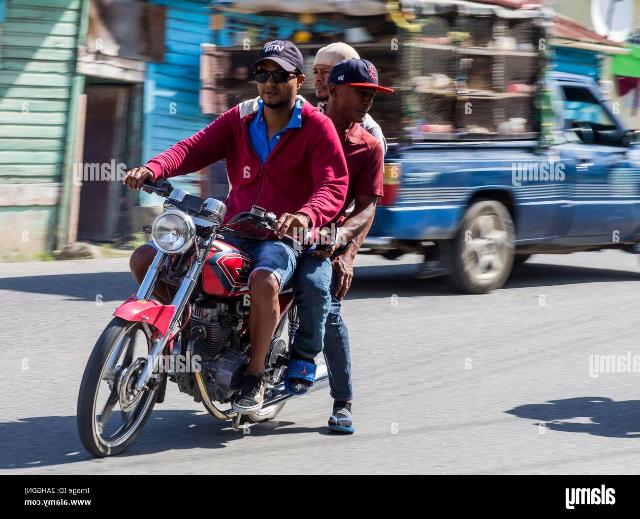motor: (79, 169, 308, 458)
non-helm: (328, 61, 393, 125), (255, 42, 306, 108), (314, 44, 360, 99)
